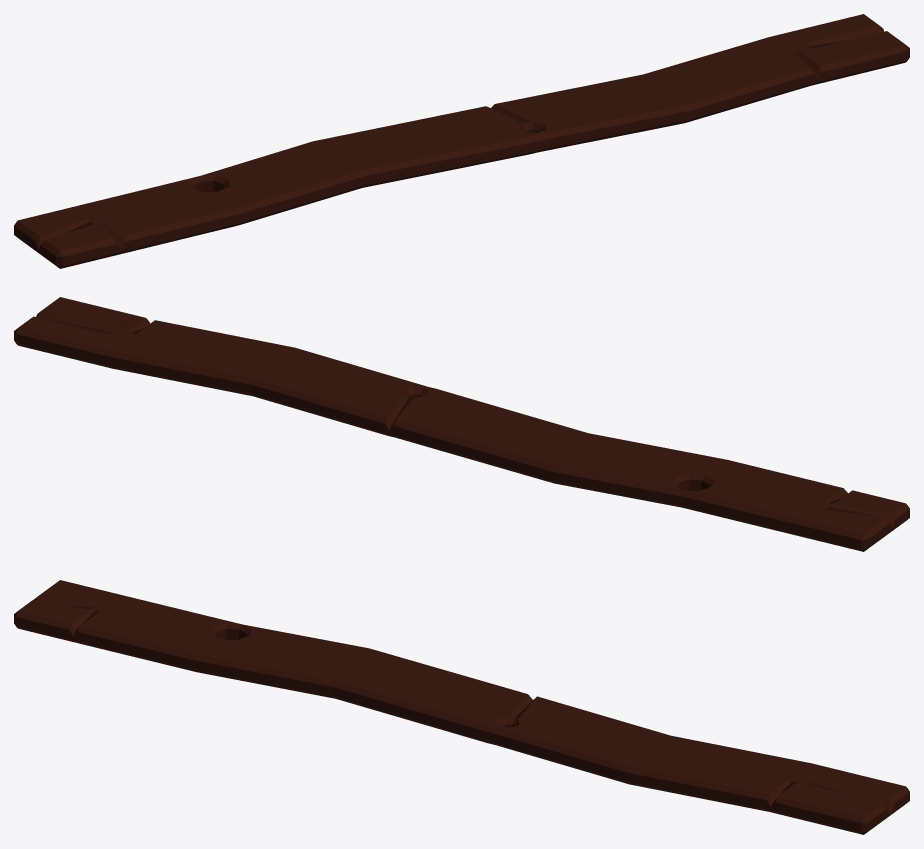
File: planche_grande.fbx
3 views of the same model, one above another, from view 1: azimuth 30°, elevation 25°; view 2: azimuth 150°, elevation 25°; view 3: azimuth 330°, elevation 25° (orthographic).
Visible parts, largest first — view 1: planche_grande; view 2: planche_grande; view 3: planche_grande.
Boxes of the visible parts, x1,y1,x2,y2 form: planche_grande: [14, 14, 909, 268]; planche_grande: [14, 297, 909, 551]; planche_grande: [14, 580, 909, 834].
Size of the model in its own units: 400 by 8 by 49.39.
